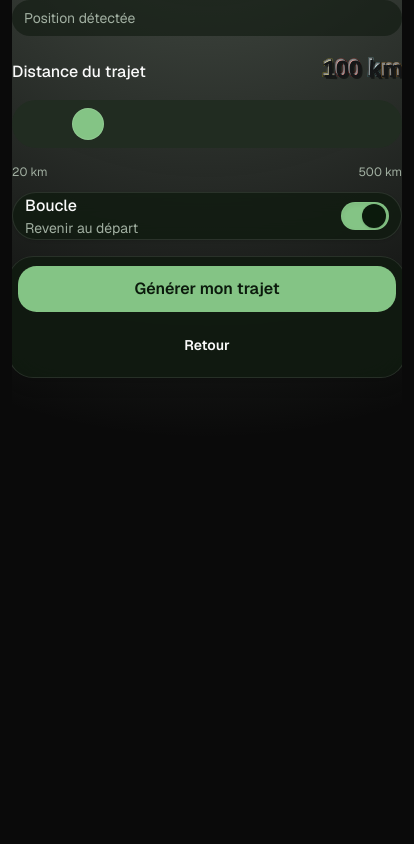
Scenario: DescribeRidePanel (FR-034) › does not regenerate with a stale start when location fails (FR-034)
Expected: the text "Position détectée" is shown, [12,0,402,36]
Click the button "Générer mon trajet" at coordinates (207, 289), box [17,265,397,313]
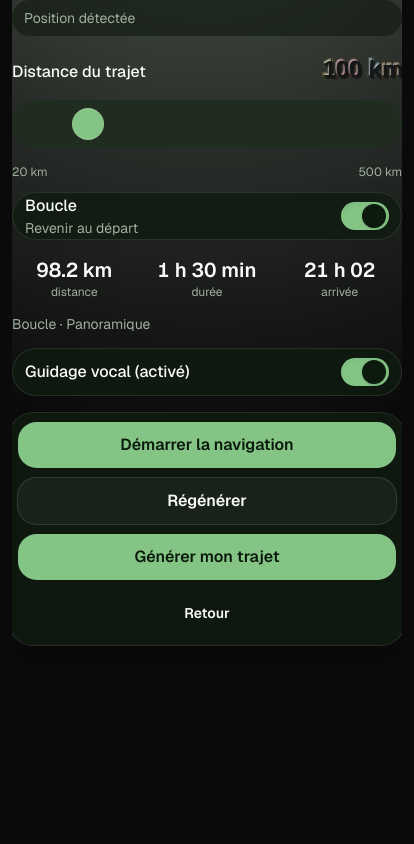
Now the button "Régénérer" is shown
Click the button "Régénérer" at coordinates (207, 501), box [17,477,397,525]
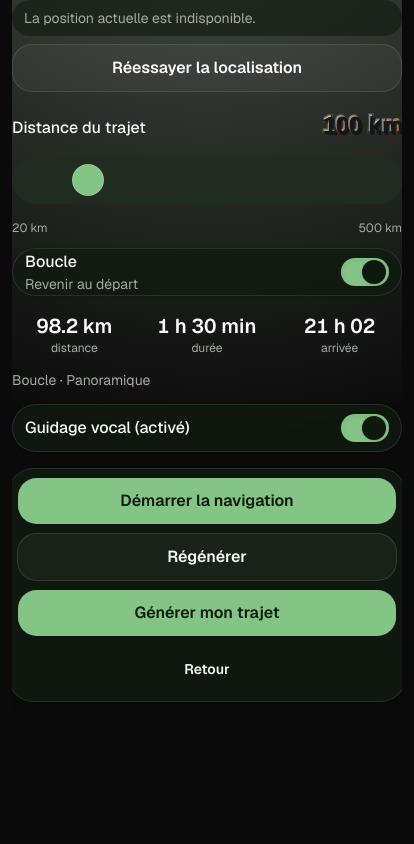
Now the text "98.2 km" is shown, box [36,313,112,339]
Now the text "La position actuelle est indisponible." is shown, box [12,0,402,36]
